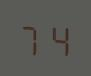four: (45, 20, 70, 56)
seven: (19, 19, 44, 55)
